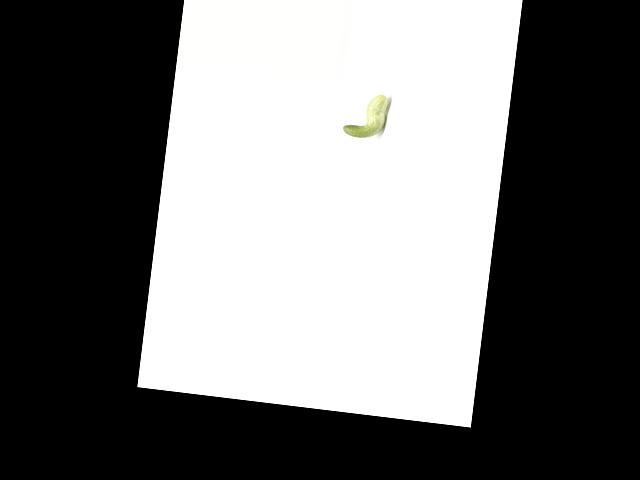cucumber: (342, 91, 389, 141)
